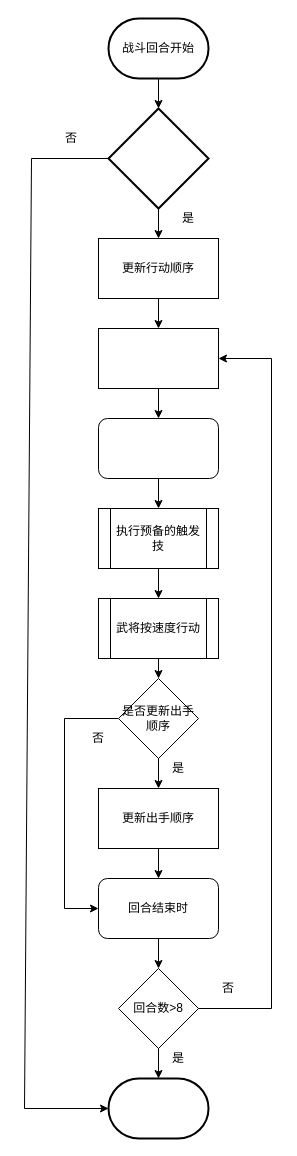
The diagram is 297 pixels wide and 1156 high, and some of its shapes have lost their labels. The shapes that lost their labels are listed below. From the top down, each one's centre as x and y in pixels, then its label:
At point (158, 158): "防守方是否存在".
At point (158, 358): "回合开始前结算".
At point (158, 448): "回合开始时".
At point (158, 1108): "战斗回合结束".
